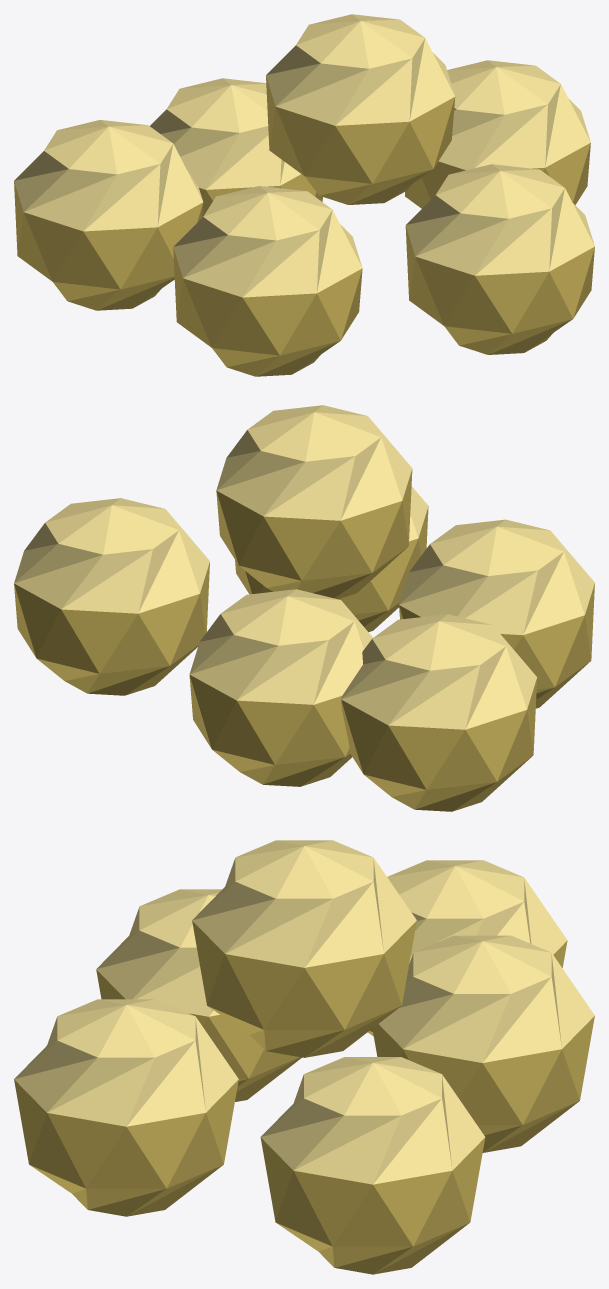
Rendered from item_produce_ambrosia_b.obj.
3 renders of one model, top to bottom at view 1: azimuth 30°, elevation 25°; view 2: azimuth 150°, elevation 25°; view 3: azimuth 270°, elevation 25°, orthographic. The views are drawn at different scales.
Size of the model in its own units: 0.7412 by 0.3705 by 0.6236.
